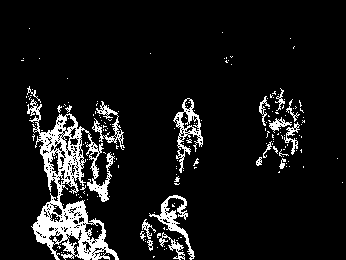person: (142, 194, 194, 260), (175, 98, 204, 182), (91, 102, 128, 160), (74, 131, 104, 201), (44, 124, 71, 201), (261, 88, 286, 163), (282, 101, 306, 172), (38, 203, 66, 260), (65, 198, 89, 260), (84, 220, 119, 260), (23, 88, 42, 150)
